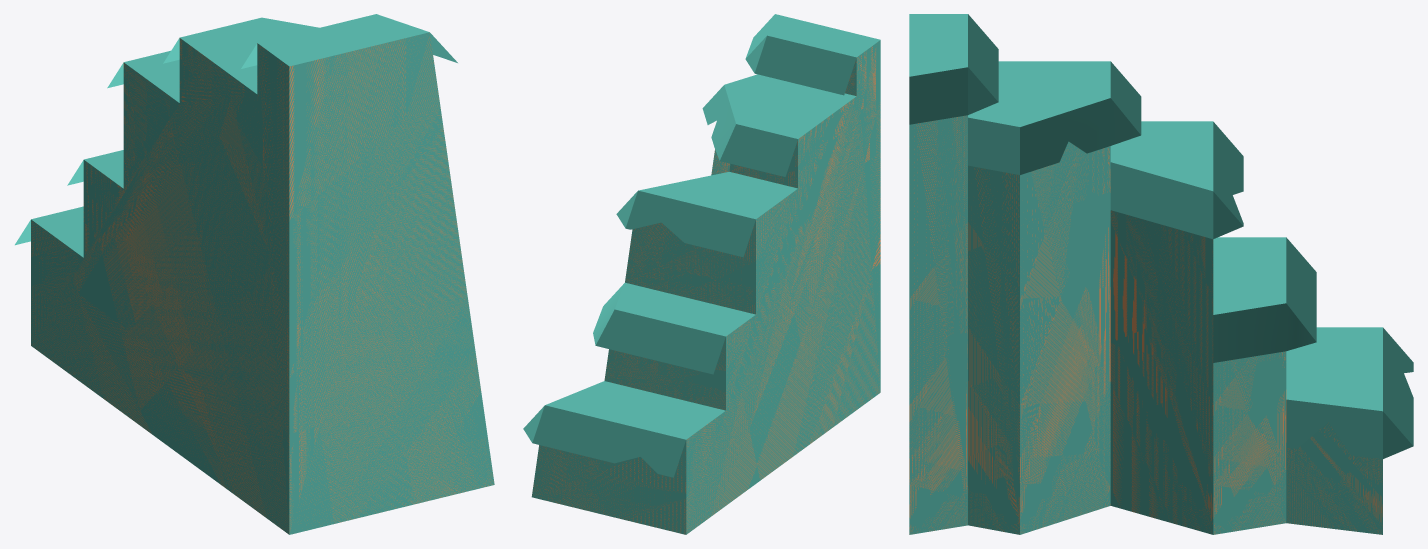
The model's file is cliffBrown_stepsEnd.obj.
3 renders of one model, left to right at view 1: azimuth 30°, elevation 25°; view 2: azimuth 150°, elevation 25°; view 3: azimuth 270°, elevation 25°, orthographic. The views are drawn at different scales.
Visible parts, largest first — view 1: cliffBrown_stepsEnd; view 2: cliffBrown_stepsEnd; view 3: cliffBrown_stepsEnd.
Boxes of the visible parts, x1,y1,x2,y2 form: cliffBrown_stepsEnd: (15, 14, 494, 534); cliffBrown_stepsEnd: (523, 14, 880, 534); cliffBrown_stepsEnd: (909, 14, 1413, 534).
Bounding box in the file's own units: 4.84 × 10 × 10.64.
